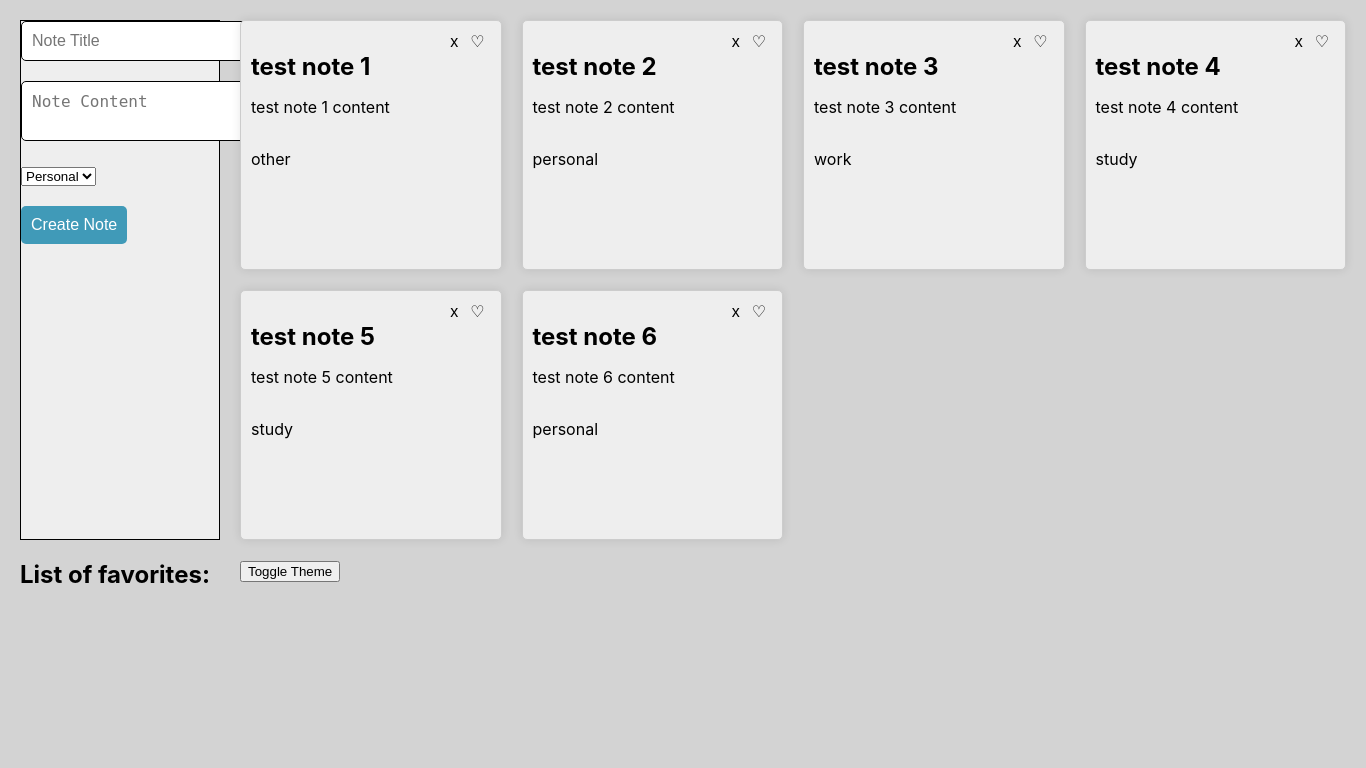
Scenario: Create StickyNote › Read
Type "New Note 1" into the field with placeholder "Note Title" at {"x": 136, "y": 41}, box [21,21,250,61]
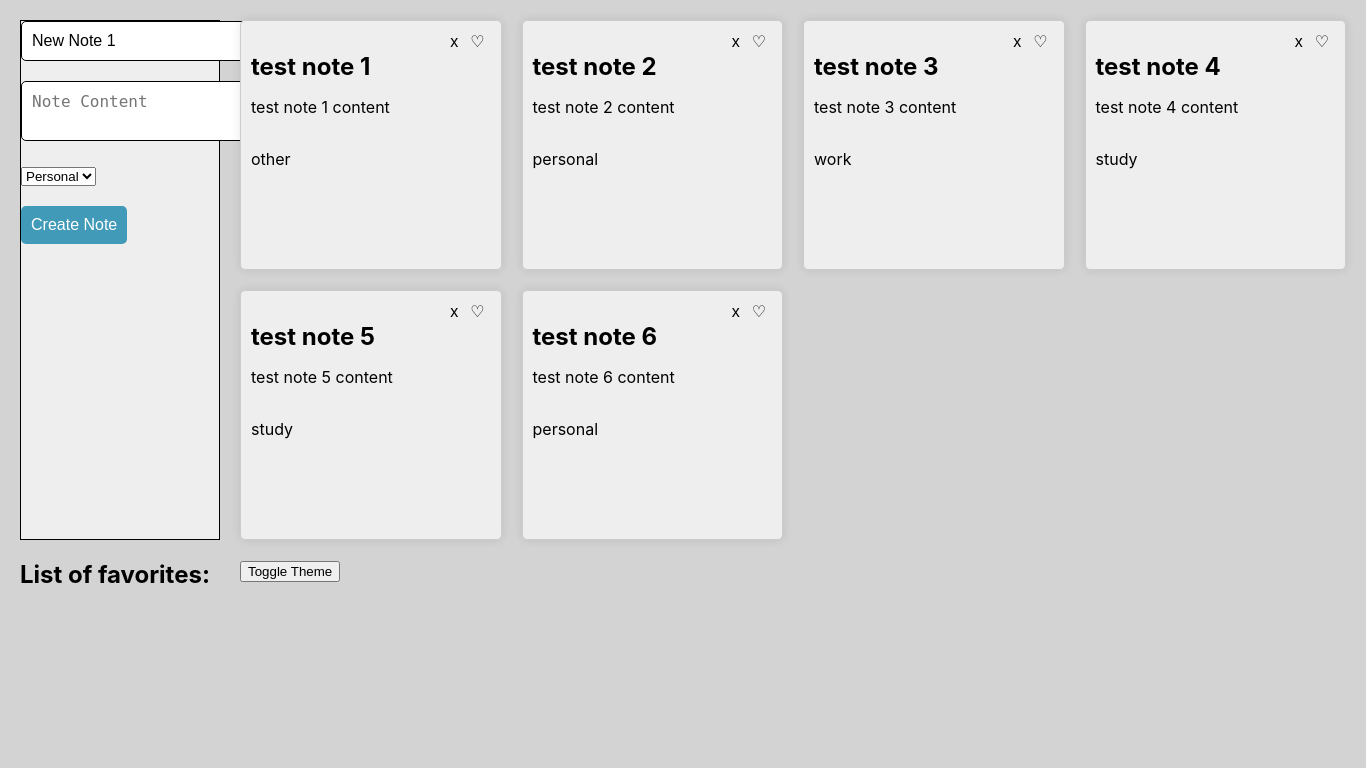
Type "Note content 1" into the text box with placeholder "Note Content" at {"x": 140, "y": 111}, box [21,81,258,141]
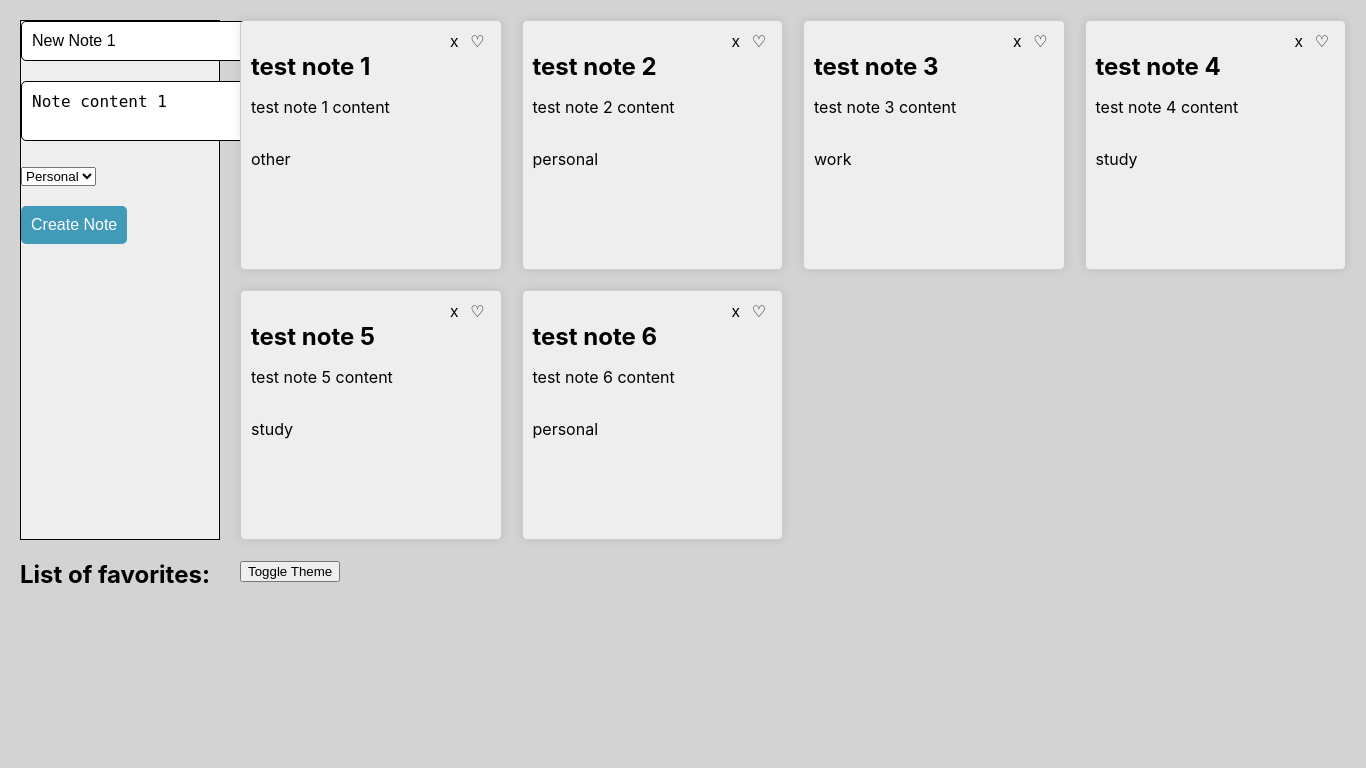
Click the button "Create Note" at {"x": 74, "y": 225}, box [21,206,127,244]
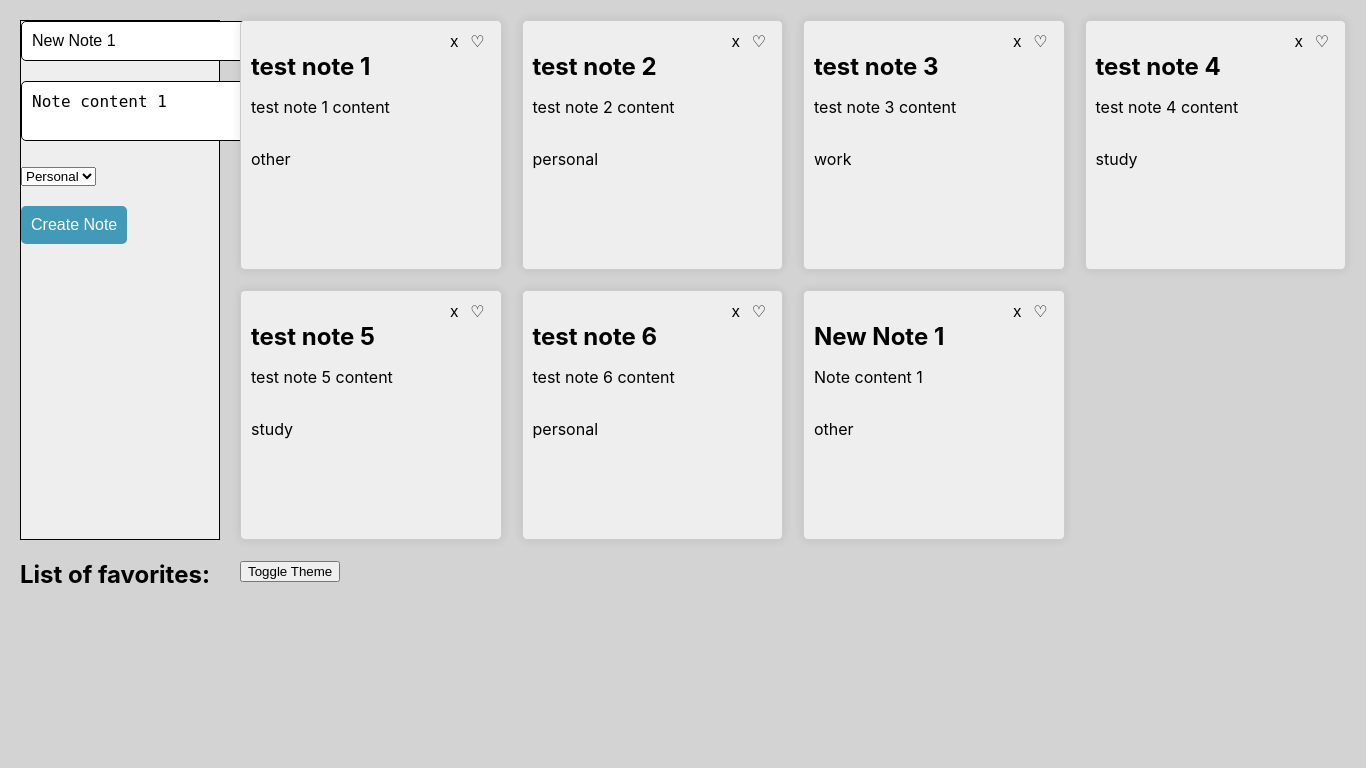
Now the heading "New Note 1" is shown, box [814,322,944,351]
Now the text box "Note content 1" is shown, box [814,367,923,387]
Replace the text in the field with placeholder "Note Title" with "New Note 2" at {"x": 136, "y": 41}, box [21,21,250,61]
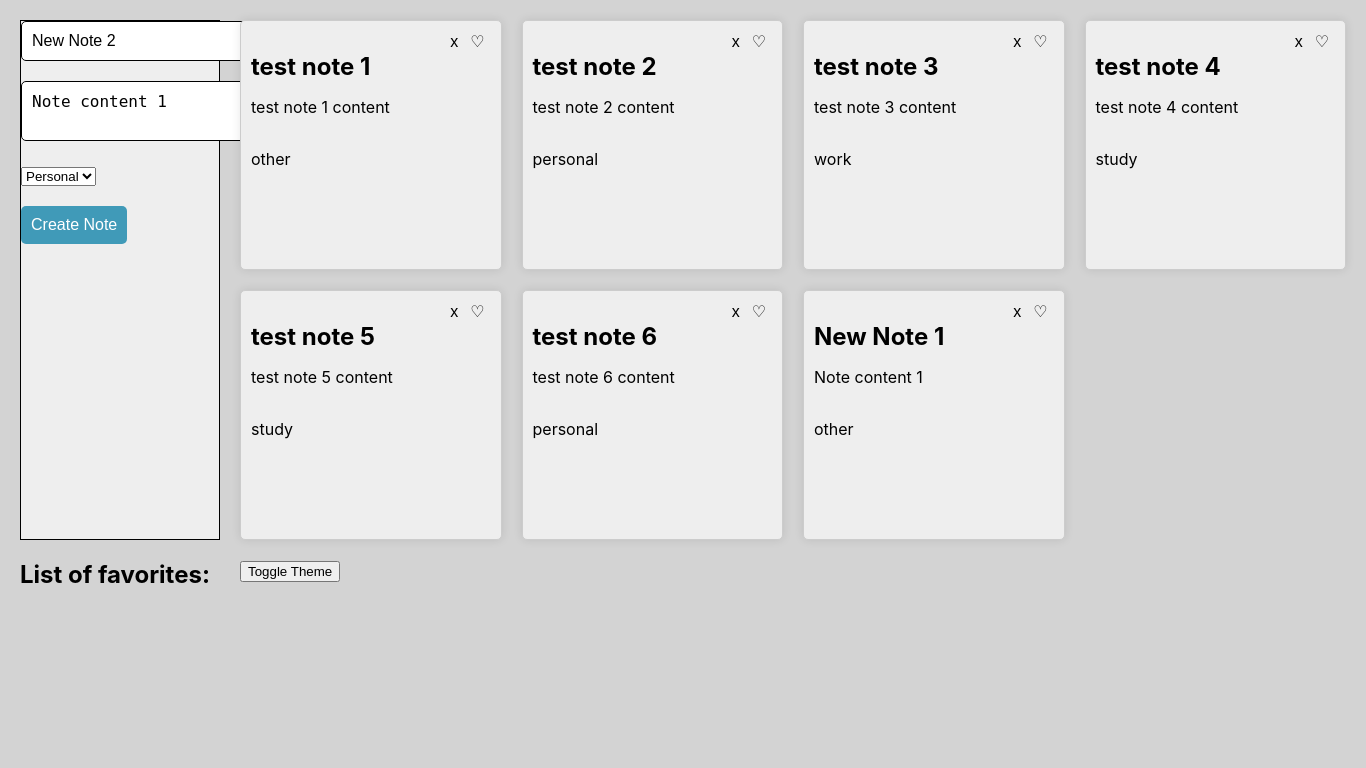
Replace the text in the text box with placeholder "Note Content" with "Note content 2" at {"x": 140, "y": 111}, box [21,81,258,141]
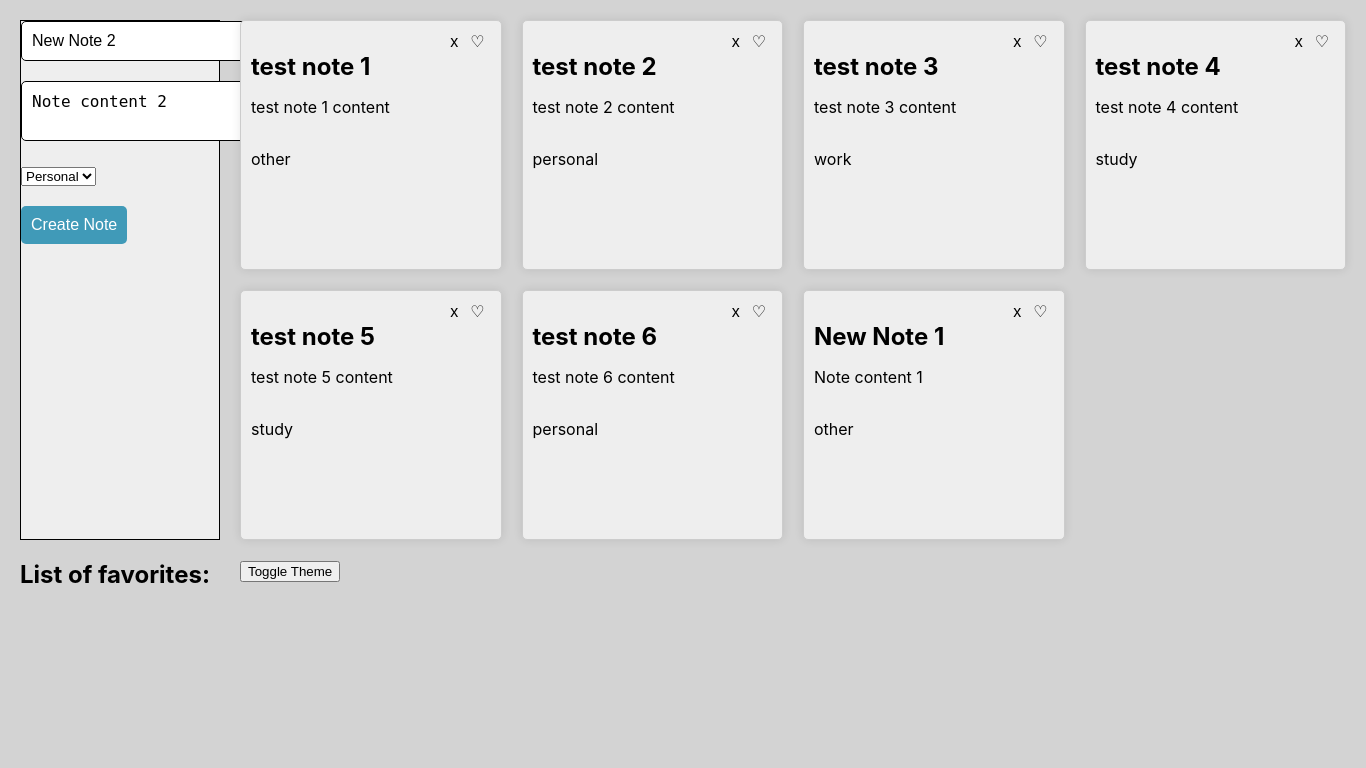
Click the button "Create Note" at {"x": 74, "y": 225}, box [21,206,127,244]
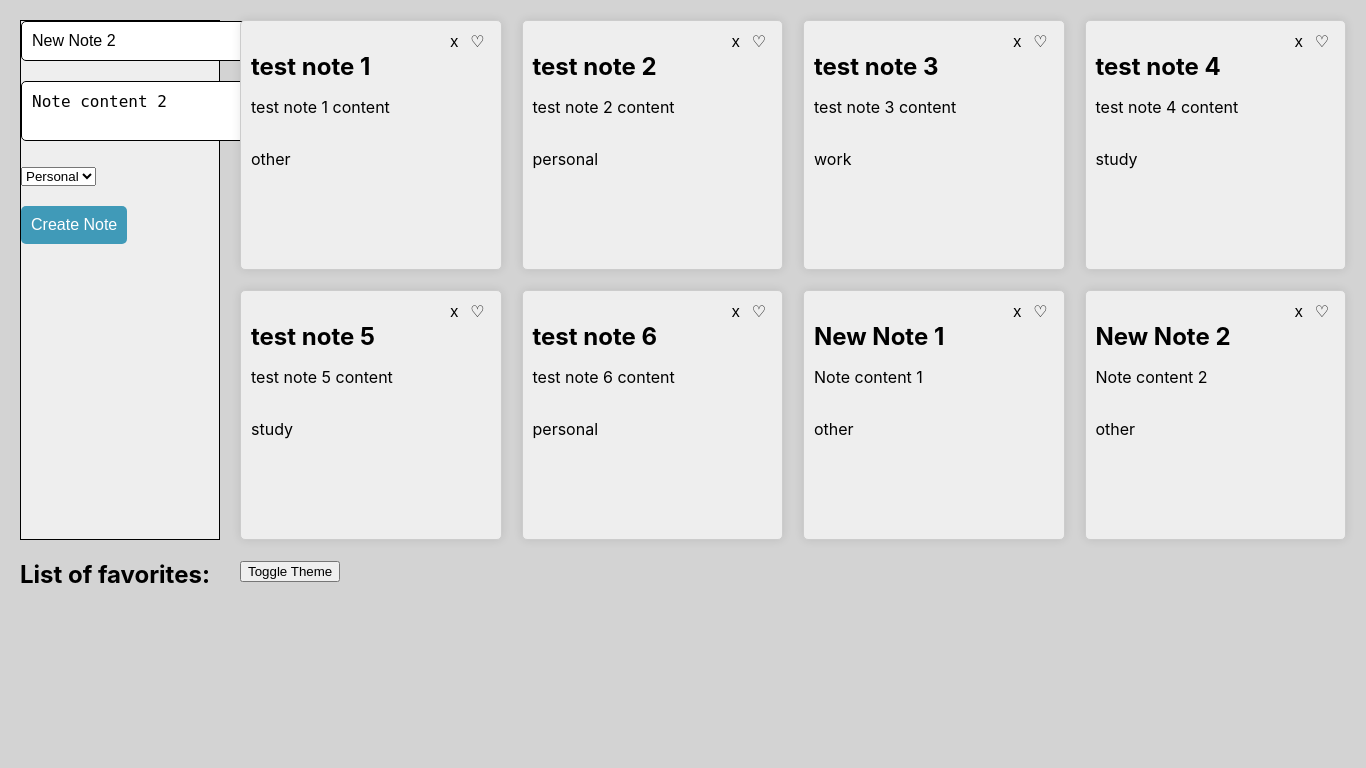
Now the heading "New Note 2" is shown, box [1096,322,1230,351]
Now the text box "Note content 2" is shown, box [1096,367,1208,387]
